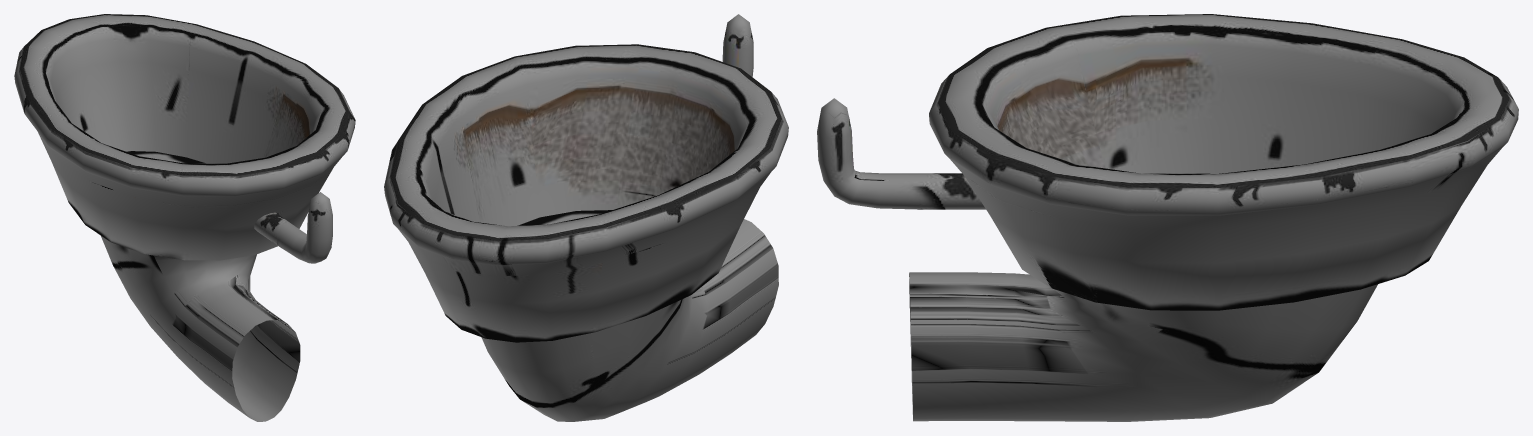
File: flytuolet.fbx
3 renders of one model, left to right at view 1: azimuth 30°, elevation 25°; view 2: azimuth 150°, elevation 25°; view 3: azimuth 270°, elevation 25°, orthographic. The views are drawn at different scales.
Visible parts, largest first — view 1: Окружность.009; view 2: Окружность.009; view 3: Окружность.009.
Part boxes in pixels (x1,y1,x2,y2): Окружность.009: (14,14,355,421); Окружность.009: (384,14,788,421); Окружность.009: (817,14,1518,421).
Bounding box in the file's own units: 48.16 × 42.16 × 79.35.
1 material, 1 textured.
